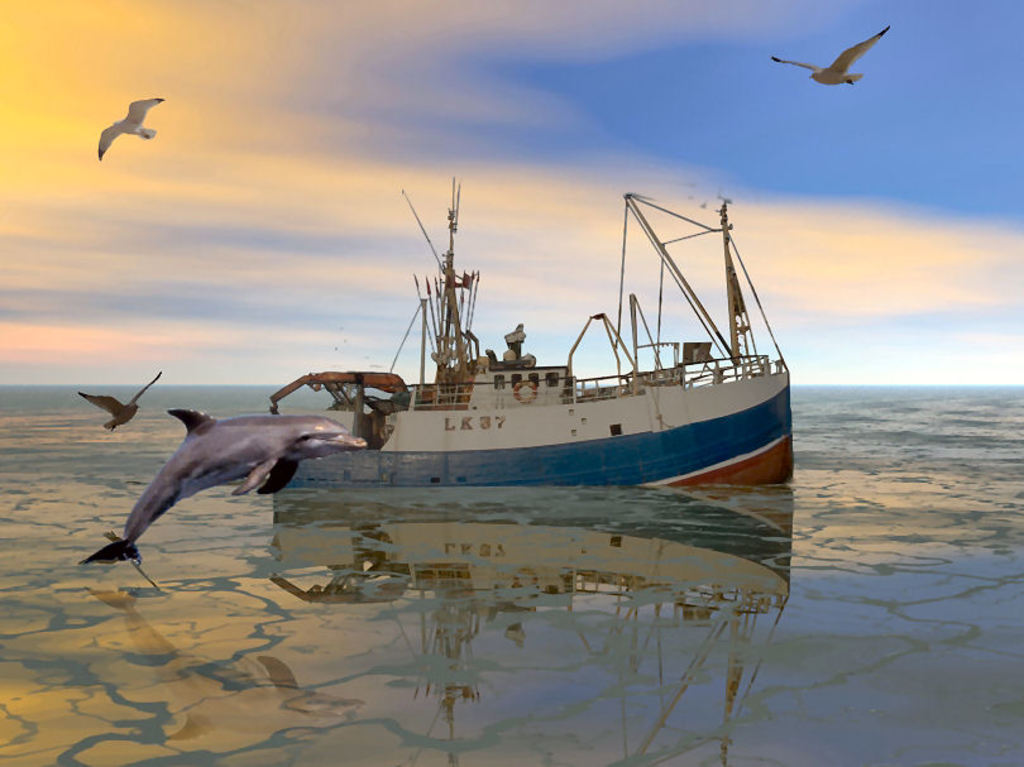boat: (254, 156, 843, 522)
